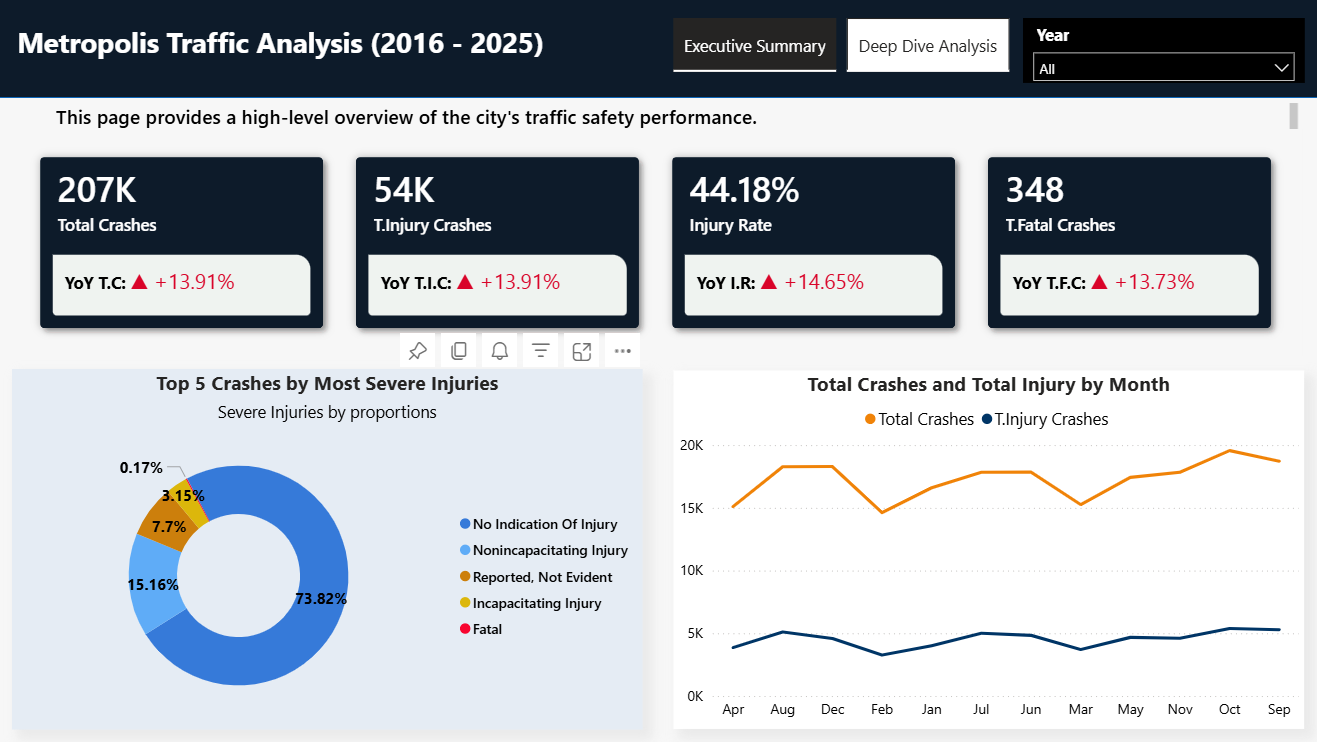

The page's visual inventory and layout, read from the dashboard file:
{"tool":"powerbi","page":{"name":"Executive Summary","canvas":[1280,720],"ordinal":0},"visuals":[{"type":"shape","box":[1.5,1.5,1278.2,719],"z":0},{"type":"textbox","box":[15.1,96.4,1249.1,45.4],"z":1000},{"type":"cardVisual","fields":{"Data":["_Measures.Total Crashes","_Measures.TotalInjury Crashes","_Measures.Injury Rate","_Measures.Fatal Crashes"]},"box":[17.6,127.5,1245.1,219.6],"z":2000},{"type":"lineChart","title":"Total Crashes and Total Injury  by Month","fields":{"Category":["Date Table.Month Name"],"Y":["_Measures.Total Crashes","_Measures.T.Injury Crashes"]},"box":[655.8,360.9,608.5,345.8],"z":3000},{"type":"donutChart","title":"Top 5 Crashes by Most Severe Injuries","fields":{"Category":["traffic_accidents.most_severe_injury"],"Y":["_Measures.Total Crashes"]},"box":[17,359.1,608.5,347.7],"z":4000},{"type":"shape","box":[1.6,2,1278.4,96.1],"z":5000},{"type":"slicer","fields":{"Values":["Date Table.Year"]},"box":[992.5,20,271.9,63],"z":6000},{"type":"pageNavigator","box":[656,20,325.7,52.2],"z":7000},{"type":"textbox","box":[16.9,20,533.1,52.2],"z":8000}]}

Visuals, with their boxes in screenshot pixels (x1, y1, x2, y2), scaled from the page's 1280x720 canvas onto the 1317x742 screenshot:
shape: bbox=[2, 2, 1316, 741]
textbox: bbox=[16, 99, 1301, 146]
cardVisual - _Measures.Total Crashes x _Measures.TotalInjury Crashes: bbox=[18, 131, 1299, 358]
"Total Crashes and Total Injury  by Month" lineChart: bbox=[675, 372, 1301, 728]
"Top 5 Crashes by Most Severe Injuries" donutChart: bbox=[17, 370, 644, 728]
shape: bbox=[2, 2, 1316, 101]
slicer - Date Table.Year: bbox=[1021, 21, 1301, 86]
pageNavigator: bbox=[675, 21, 1010, 74]
textbox: bbox=[17, 21, 566, 74]
